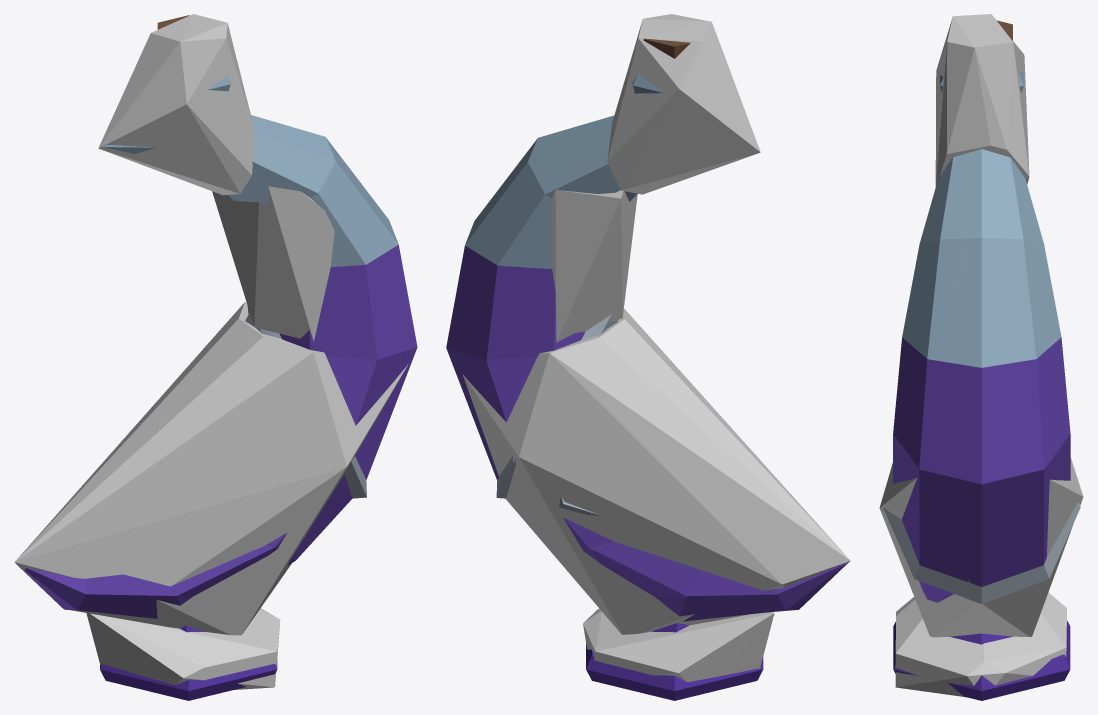
The model's file is SM_Item_Elixir_01.fbx.
The picture shows the model from 3 angles, left to right: view 1: azimuth 30°, elevation 25°; view 2: azimuth 150°, elevation 25°; view 3: azimuth 270°, elevation 25°; orthographic projection.
Parts seen in each view (by area): view 1: SM_Item_Elixir_01_ConvexHulls, SM_Item_Elixir_01; view 2: SM_Item_Elixir_01_ConvexHulls, SM_Item_Elixir_01; view 3: SM_Item_Elixir_01, SM_Item_Elixir_01_ConvexHulls.
Boxes of the visible parts, x1,y1,x2,y2 form: SM_Item_Elixir_01_ConvexHulls: (14, 14, 408, 689); SM_Item_Elixir_01: (16, 15, 417, 700); SM_Item_Elixir_01_ConvexHulls: (462, 14, 850, 682); SM_Item_Elixir_01: (446, 38, 847, 700); SM_Item_Elixir_01: (883, 20, 1080, 700); SM_Item_Elixir_01_ConvexHulls: (879, 14, 1083, 697).
Bounding box in the file's own units: 43.66 × 19.58 × 67.69.
Materials: 2 (1 with a texture image).
